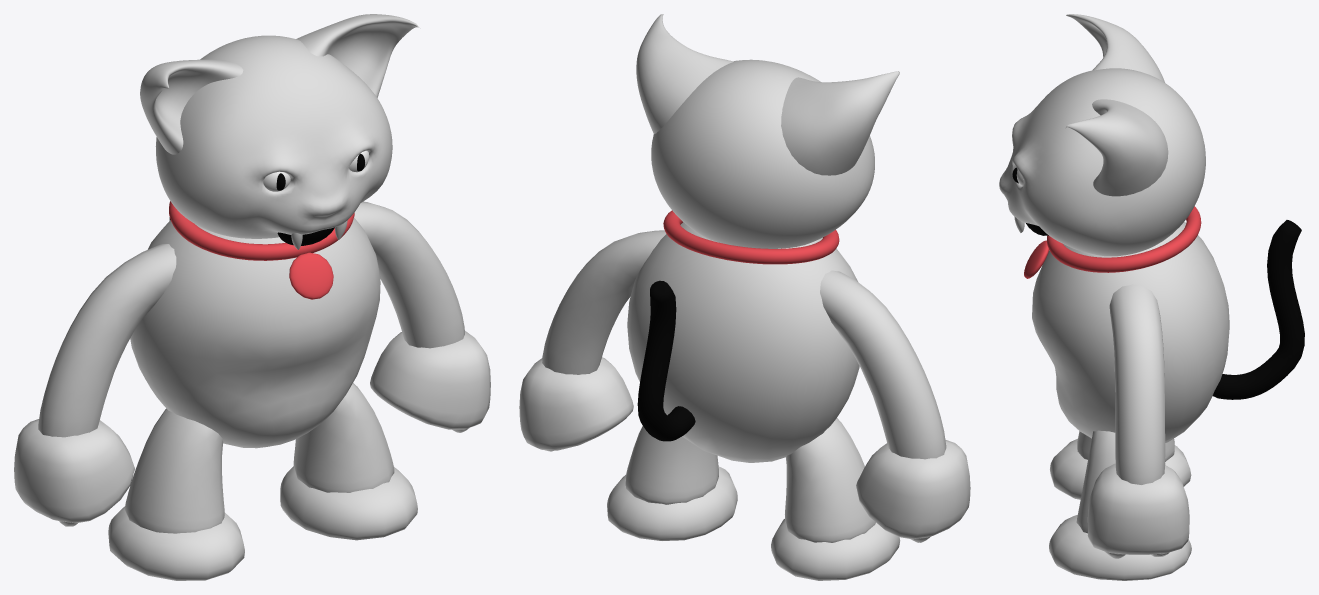
Rendered from CHARACTER.glb.
3 renders of one model, left to right at view 1: azimuth 30°, elevation 25°; view 2: azimuth 150°, elevation 25°; view 3: azimuth 270°, elevation 25°, orthographic. The views are drawn at different scales.
Parts seen in each view (by area): view 1: Retopo_Sphere.001, Retopo_Cube.002, Retopo_Sphere.006, Retopo_Cube.007, Retopo_Circle.003; view 2: Retopo_Sphere.001, Retopo_Cube.002, Retopo_Sphere.006, Retopo_Cube.007, BézierCurve, Retopo_Circle.003; view 3: Retopo_Sphere.001, Retopo_Sphere.006, Retopo_Cube.002, Retopo_Cube.007, BézierCurve, Retopo_Circle.003.
Part boxes in pixels (x1=…): Retopo_Sphere.001: x1=140, y1=14, x2=418, y2=238; Retopo_Cube.002: x1=14, y1=201, x2=490, y2=526; Retopo_Sphere.006: x1=130, y1=217, x2=380, y2=448; Retopo_Cube.007: x1=108, y1=383, x2=417, y2=580; Retopo_Circle.003: x1=169, y1=201, x2=354, y2=299; Retopo_Sphere.001: x1=636, y1=14, x2=899, y2=248; Retopo_Cube.002: x1=519, y1=230, x2=970, y2=542; Retopo_Sphere.006: x1=627, y1=222, x2=859, y2=462; Retopo_Cube.007: x1=607, y1=418, x2=900, y2=580; BézierCurve: x1=637, y1=280, x2=695, y2=441; Retopo_Circle.003: x1=663, y1=210, x2=839, y2=264; Retopo_Sphere.001: x1=999, y1=14, x2=1205, y2=256; Retopo_Sphere.006: x1=1032, y1=221, x2=1229, y2=442; Retopo_Cube.002: x1=1087, y1=284, x2=1189, y2=558; Retopo_Cube.007: x1=1049, y1=430, x2=1191, y2=580; BézierCurve: x1=1213, y1=220, x2=1304, y2=399; Retopo_Circle.003: x1=1024, y1=206, x2=1201, y2=278.
Size of the model in its own units: 5.36 by 5.65 by 3.43.
